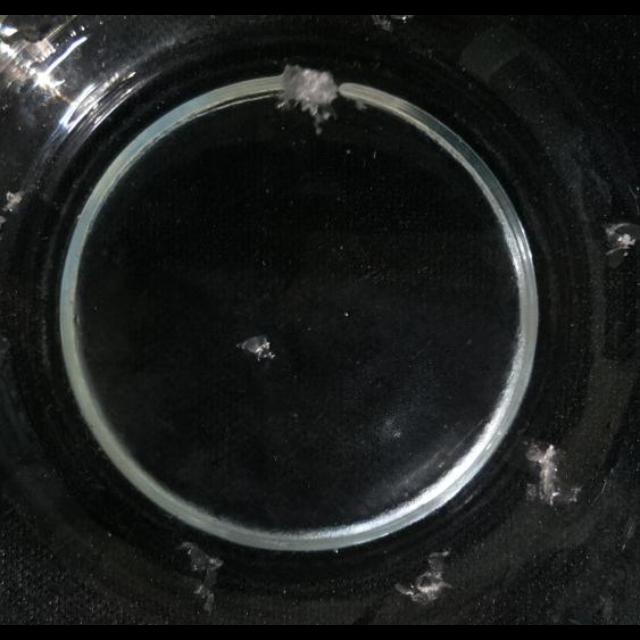Fibre: (276, 62, 342, 128), (525, 440, 583, 508), (544, 570, 614, 622), (178, 540, 225, 614), (394, 550, 454, 606), (602, 222, 638, 262), (238, 334, 276, 362), (1, 190, 25, 222)
microbeads: (372, 150, 378, 160)
